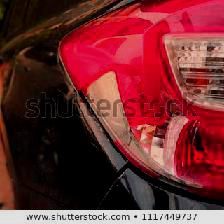tail_lamp: (114, 94, 185, 187)
